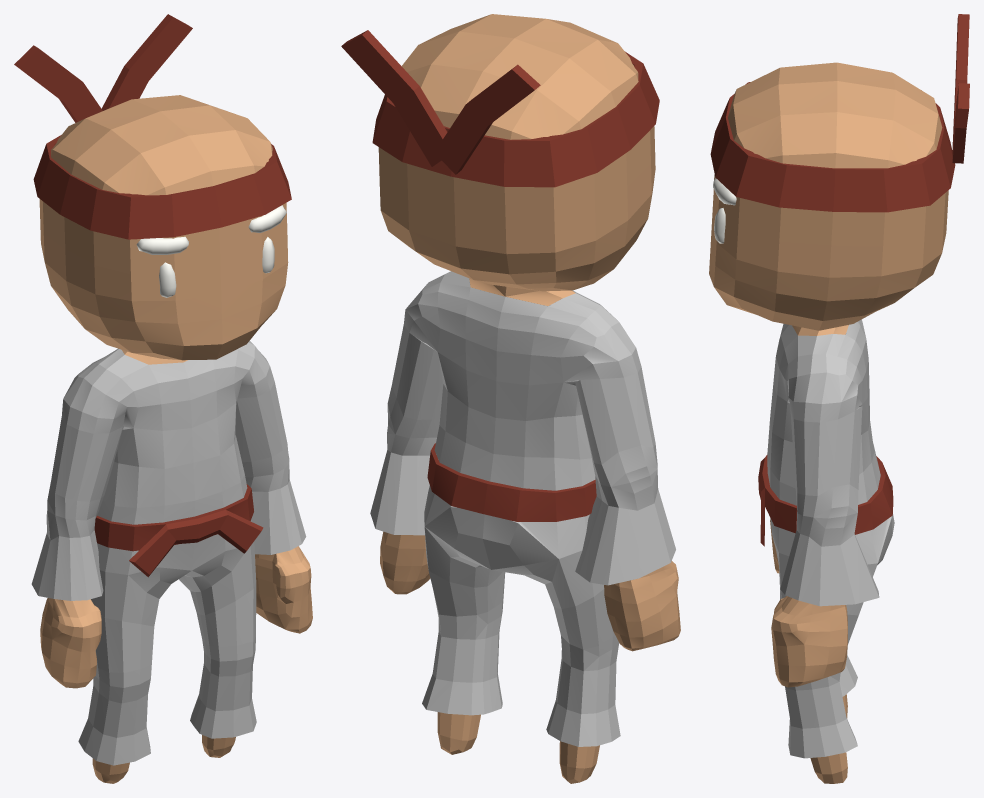
Rendered from debout-kimono-male.glb.
3 renders of one model, left to right at view 1: azimuth 30°, elevation 25°; view 2: azimuth 150°, elevation 25°; view 3: azimuth 270°, elevation 25°, orthographic. The views are drawn at different scales.
Parts seen in each view (by area): view 1: Cube004_1, Cube004, Cube004_2, Cube004_3; view 2: Cube004_1, Cube004, Cube004_2; view 3: Cube004, Cube004_1, Cube004_2, Cube004_3.
Part boxes in pixels (bbox=[...]): Cube004_1: bbox=[31, 341, 306, 765]; Cube004: bbox=[39, 95, 312, 783]; Cube004_2: bbox=[14, 14, 291, 577]; Cube004_3: bbox=[136, 205, 286, 297]; Cube004_1: bbox=[370, 271, 675, 746]; Cube004: bbox=[378, 14, 680, 783]; Cube004_2: bbox=[341, 30, 659, 521]; Cube004: bbox=[709, 62, 948, 783]; Cube004_1: bbox=[767, 319, 894, 758]; Cube004_2: bbox=[710, 14, 969, 546]; Cube004_3: bbox=[713, 175, 736, 243].
Size of the model in its own units: 0.676 by 1.69 by 0.5632.
